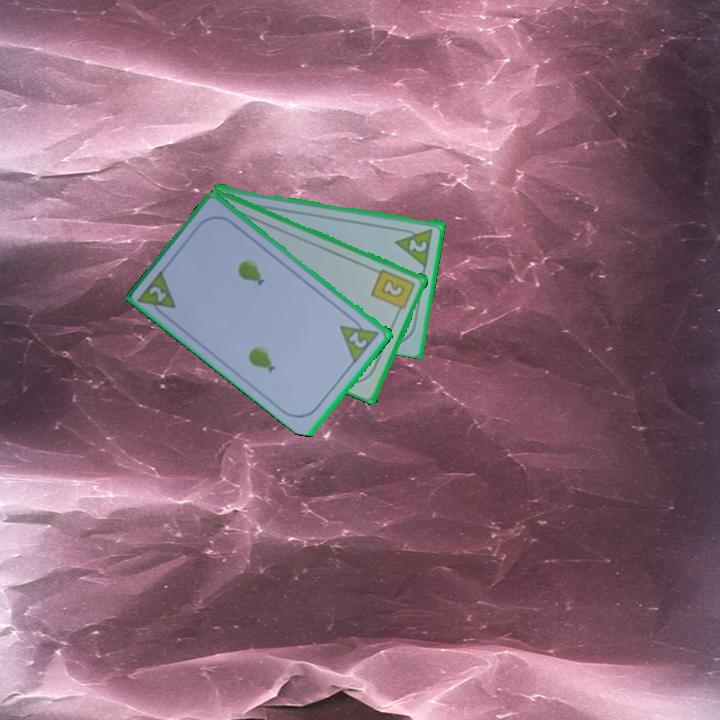2b: (368, 265, 418, 317)
2p: (392, 224, 436, 268), (346, 327, 371, 351), (145, 282, 170, 305)
